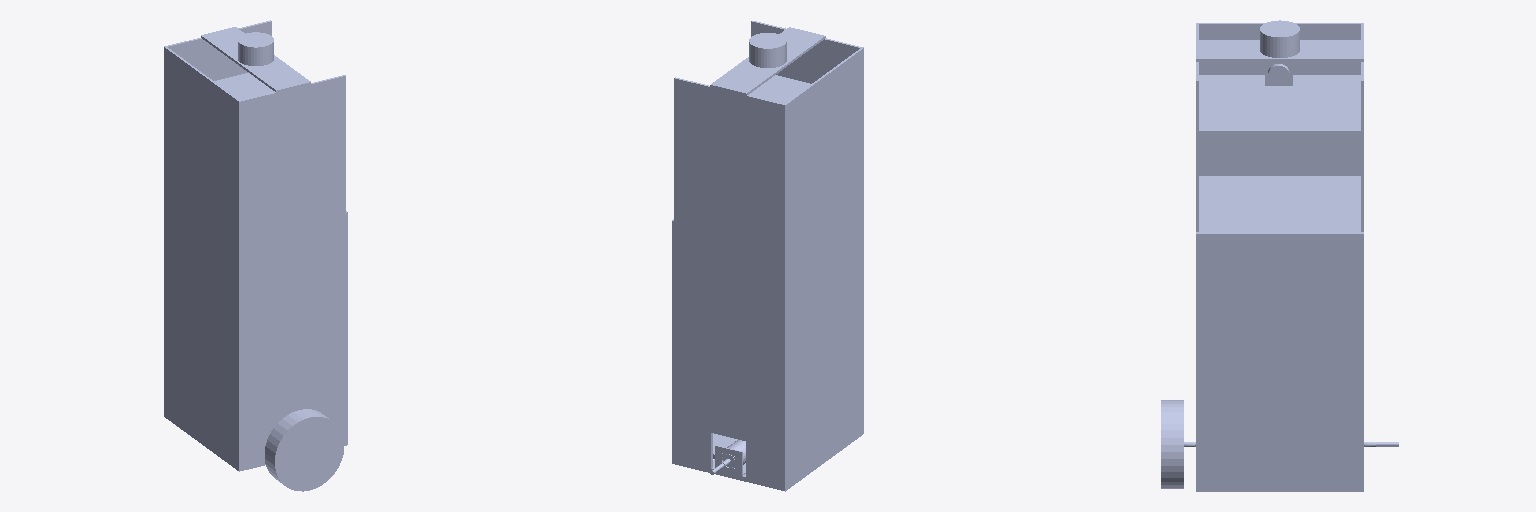
The robot description file, URDF, robot "slam":
<?xml version="1.0" encoding="utf-8"?>
<!-- This URDF was automatically created by SolidWorks to URDF Exporter! Originally created by [author] ([email redacted]) 
     Commit Version: 1.6.0-4-g7f85cfe  Build Version: 1.6.7995.38578
     For more information, please see http://wiki.ros.org/sw_urdf_exporter -->
<robot
  name="slam">
  <link
    name="base_link">
    <inertial>
      <origin
        xyz="-0.0107930337787221 -4.17811398268908E-05 0.342180321915431"
        rpy="0 0 0" />
      <mass
        value="6.28339377848197" />
      <inertia
        ixx="0.202791769289639"
        ixy="6.21302361075846E-10"
        ixz="-2.25777226273672E-08"
        iyy="0.19227279401554"
        iyz="-2.35243191053513E-17"
        izz="0.0461014447332229" />
    </inertial>
    <visual>
      <origin
        xyz="0 0 0"
        rpy="0 0 0" />
      <geometry>
        <mesh
          filename="package://slam/meshes/base_link.STL" />
      </geometry>
      <material
        name="">
        <color
          rgba="0.792156862745098 0.819607843137255 0.933333333333333 1" />
      </material>
    </visual>
    <collision>
      <origin
        xyz="0 0 0"
        rpy="0 0 0" />
      <geometry>
        <mesh
          filename="package://slam/meshes/base_link.STL" />
      </geometry>
    </collision>
  </link>
  <link
    name="left_link">
    <inertial>
      <origin
        xyz="0 -0.0205 4.44089209850063E-16"
        rpy="0 0 0" />
      <mass
        value="0.822293027521207" />
      <inertia
        ixx="0.00143414756441595"
        ixy="1.15672792947902E-19"
        ixz="-7.41597516465037E-20"
        iyy="0.00263791603228804"
        iyz="2.6024982587455E-19"
        izz="0.00143414756441595" />
    </inertial>
    <visual>
      <origin
        xyz="0 0 0"
        rpy="0 0 0" />
      <geometry>
        <mesh
          filename="package://slam/meshes/left_link.STL" />
      </geometry>
      <material
        name="">
        <color
          rgba="0.792156862745098 0.819607843137255 0.933333333333333 1" />
      </material>
    </visual>
    <collision>
      <origin
        xyz="0 0 0"
        rpy="0 0 0" />
      <geometry>
        <mesh
          filename="package://slam/meshes/left_link.STL" />
      </geometry>
    </collision>
  </link>
  <joint
    name="left_wheel"
    type="continuous">
    <origin
      xyz="0 0.213 0.035"
      rpy="0 0 0" />
    <parent
      link="base_link" />
    <child
      link="left_link" />
    <axis
      xyz="0 1 0" />
    <limit
      effort="1"
      velocity="10" />
  </joint>
  <link
    name="right_link">
    <inertial>
      <origin
        xyz="-2.77555756156289E-17 0.0205000000000002 0"
        rpy="0 0 0" />
      <mass
        value="0.822293027521207" />
      <inertia
        ixx="0.00143414756441595"
        ixy="-1.83047349205601E-20"
        ixz="-2.31122203219551E-20"
        iyy="0.00263791603228803"
        iyz="-2.14336241342581E-19"
        izz="0.00143414756441595" />
    </inertial>
    <visual>
      <origin
        xyz="0 0 0"
        rpy="0 0 0" />
      <geometry>
        <mesh
          filename="package://slam/meshes/right_link.STL" />
      </geometry>
      <material
        name="">
        <color
          rgba="0.792156862745098 0.819607843137255 0.933333333333333 1" />
      </material>
    </visual>
    <collision>
      <origin
        xyz="0 0 0"
        rpy="0 0 0" />
      <geometry>
        <mesh
          filename="package://slam/meshes/right_link.STL" />
      </geometry>
    </collision>
  </link>
  <joint
    name="right_wheel"
    type="continuous">
    <origin
      xyz="0 -0.213 0.035"
      rpy="0 0 0" />
    <parent
      link="base_link" />
    <child
      link="right_link" />
    <axis
      xyz="0 -1 0" />
    <limit
      effort="1"
      velocity="10" />
  </joint>
  <link
    name="lidar_link">
    <inertial>
      <origin
        xyz="0 0 -0.0205000000000002"
        rpy="0 0 0" />
      <mass
        value="0.166931667241147" />
      <inertia
        ixx="7.74702045721622E-05"
        ixy="-9.02779661431517E-36"
        ixz="-4.36228625422245E-21"
        iyy="7.74702045721621E-05"
        iyz="-2.74204729277547E-20"
        izz="0.000108171720372263" />
    </inertial>
    <visual>
      <origin
        xyz="0 0 0"
        rpy="0 0 0" />
      <geometry>
        <mesh
          filename="package://slam/meshes/lidar_link.STL" />
      </geometry>
      <material
        name="">
        <color
          rgba="0.792156862745098 0.819607843137255 0.933333333333333 1" />
      </material>
    </visual>
    <collision>
      <origin
        xyz="0 0 0"
        rpy="0 0 0" />
      <geometry>
        <mesh
          filename="package://slam/meshes/lidar_link.STL" />
      </geometry>
    </collision>
  </link>
  <joint
    name="lidar_joint"
    type="fixed">
    <origin
      xyz="0 0 0.856"
      rpy="0 0 0" />
    <parent
      link="base_link" />
    <child
      link="lidar_link" />
    <axis
      xyz="0 0 0" />
  </joint>
</robot>

--- What the picture shows (computed from the rendered views, not written in the file) ---
Views: 3 orthographic renders of the robot side by side, from view 1: azimuth 30°, elevation 25°; view 2: azimuth 150°, elevation 25°; view 3: azimuth 270°, elevation 25°.
Model slam with 4 links and 3 joints (2 continuous, 1 fixed), rooted at base_link, posed every joint at zero.
Visible links, largest first — view 1: base_link, right_link, lidar_link; view 2: base_link, lidar_link; view 3: base_link, right_link, lidar_link.
Boxes of the visible links, bbox=[...] form: base_link: bbox=[164, 20, 347, 471]; right_link: bbox=[265, 409, 343, 491]; lidar_link: bbox=[238, 32, 273, 65]; base_link: bbox=[672, 21, 863, 491]; lidar_link: bbox=[749, 33, 786, 67]; base_link: bbox=[1184, 23, 1398, 491]; right_link: bbox=[1161, 400, 1183, 488]; lidar_link: bbox=[1260, 20, 1299, 57].
Bounding box of the posed robot: 0.25 × 0.426 × 0.901 m (x, y, z).
3 mesh visuals loaded from 4 distinct referenced files (3 binary STL); not drawn: 1 (file found but could not be loaded).
